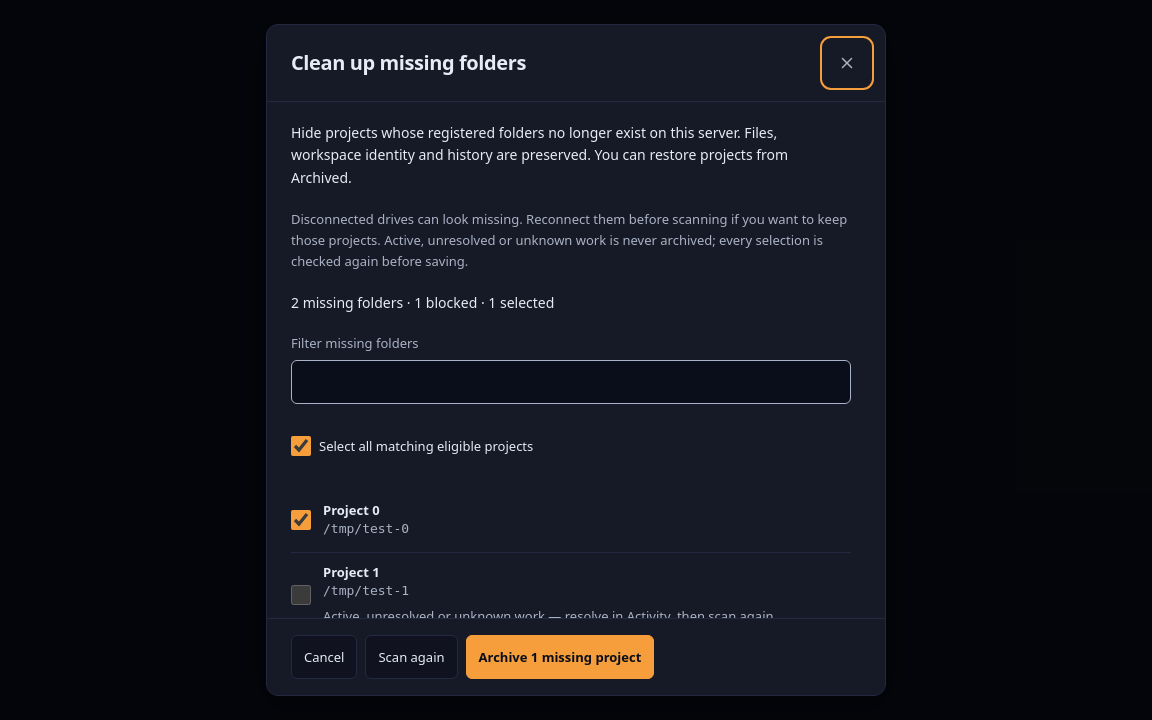
Test: requires rescan after an ambiguous write failure and reports partial skips
Click the button "Archive 1 missing project" at (560, 657), box [466,635,654,679]
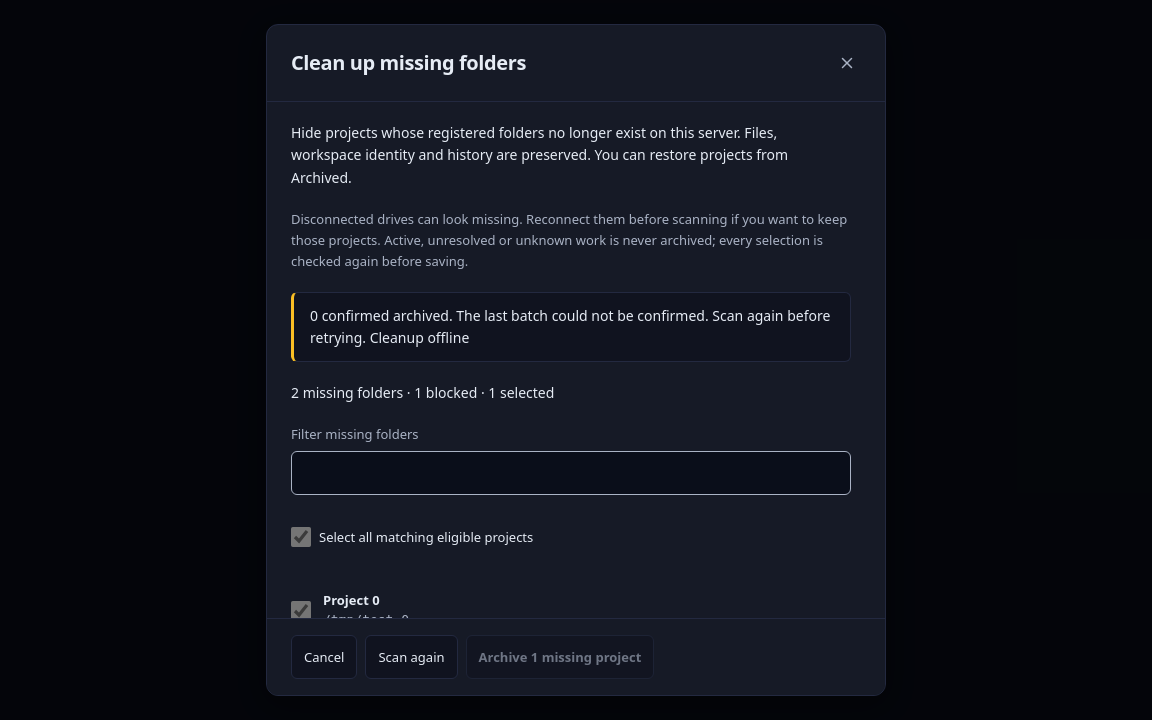
Result: the message shows "Scan again before retrying" at [310,306,830,347]
Result: the button "Archive 1 missing project" is disabled at [466,635,654,679]
Click the button "Scan again" at (412, 657), box [366,635,458,679]
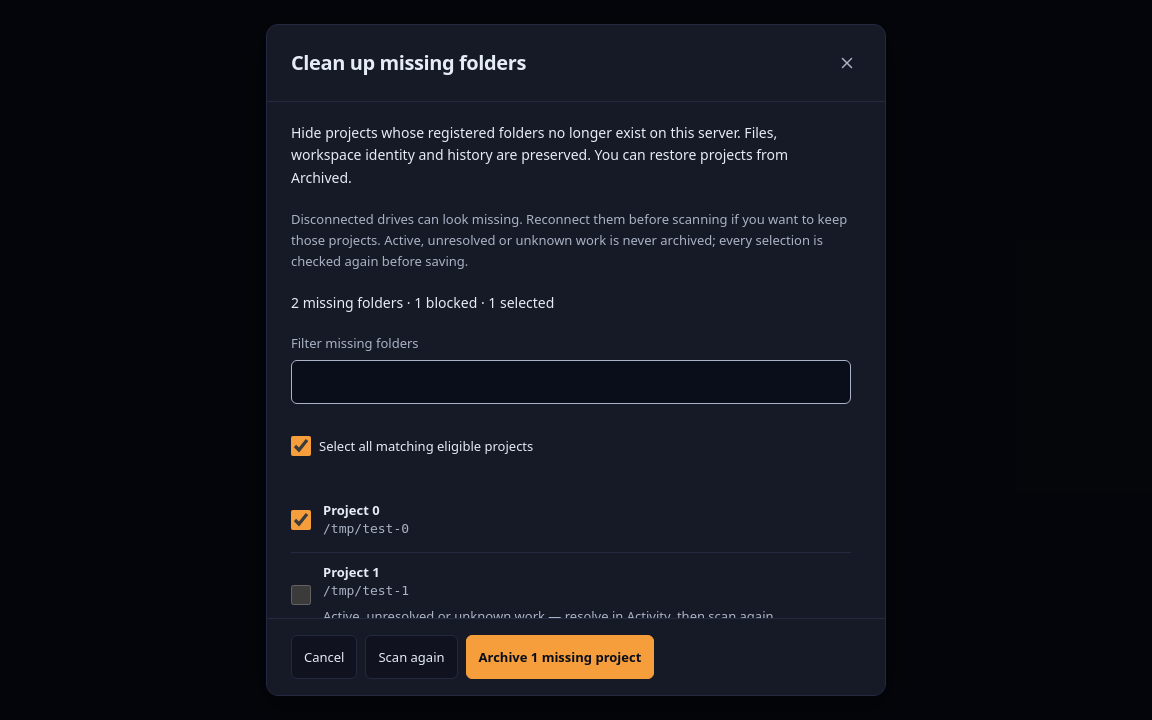
Result: the button "Archive 1 missing project" is enabled
Click the button "Archive 1 missing project" at (560, 657), box [466,635,654,679]
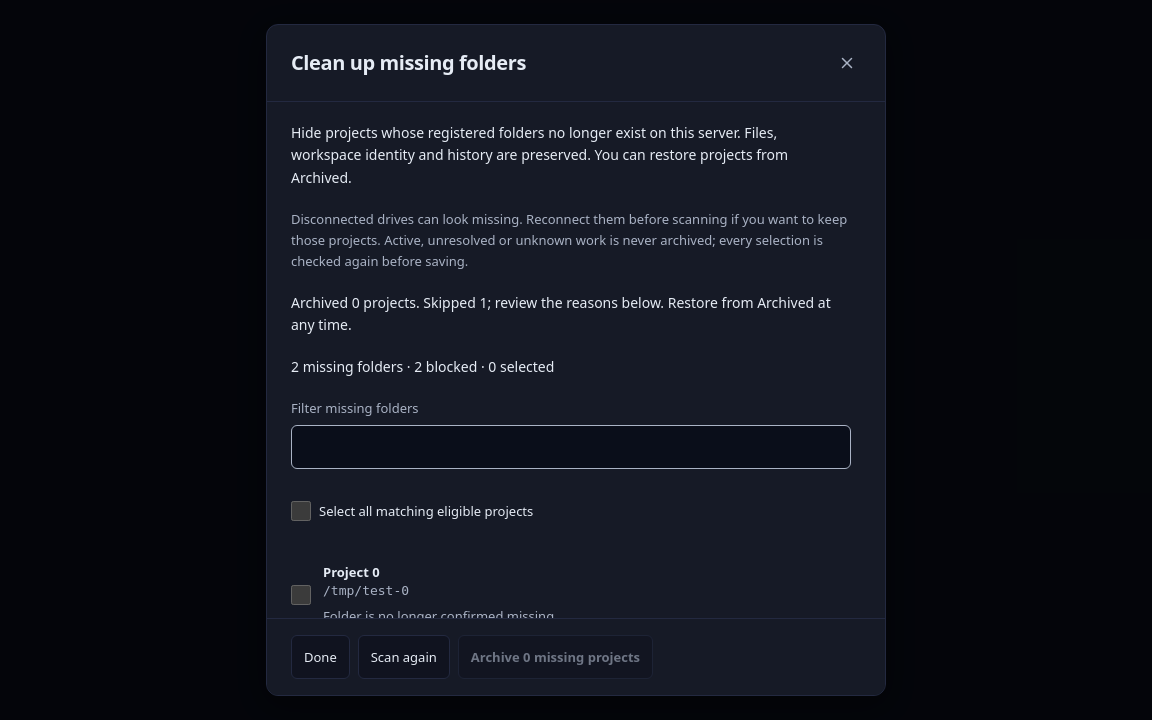
Result: the text "Skipped 1" is shown at [291,293,831,334]
Result: the text "Folder is no longer confirmed missing" is shown at [323,607,554,618]
